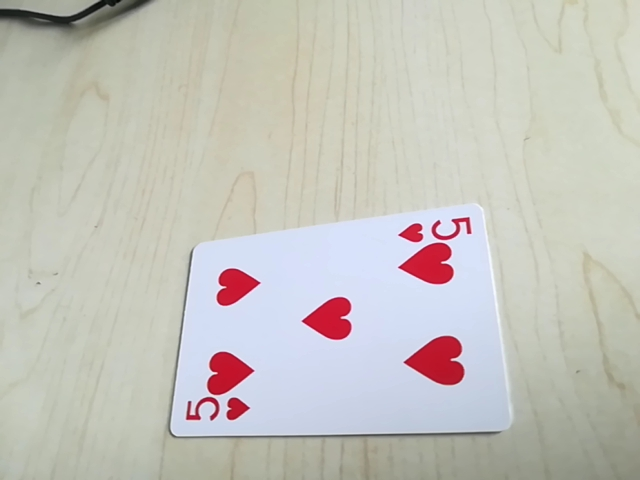hx 5: (395, 210, 478, 246), (179, 395, 252, 430)
